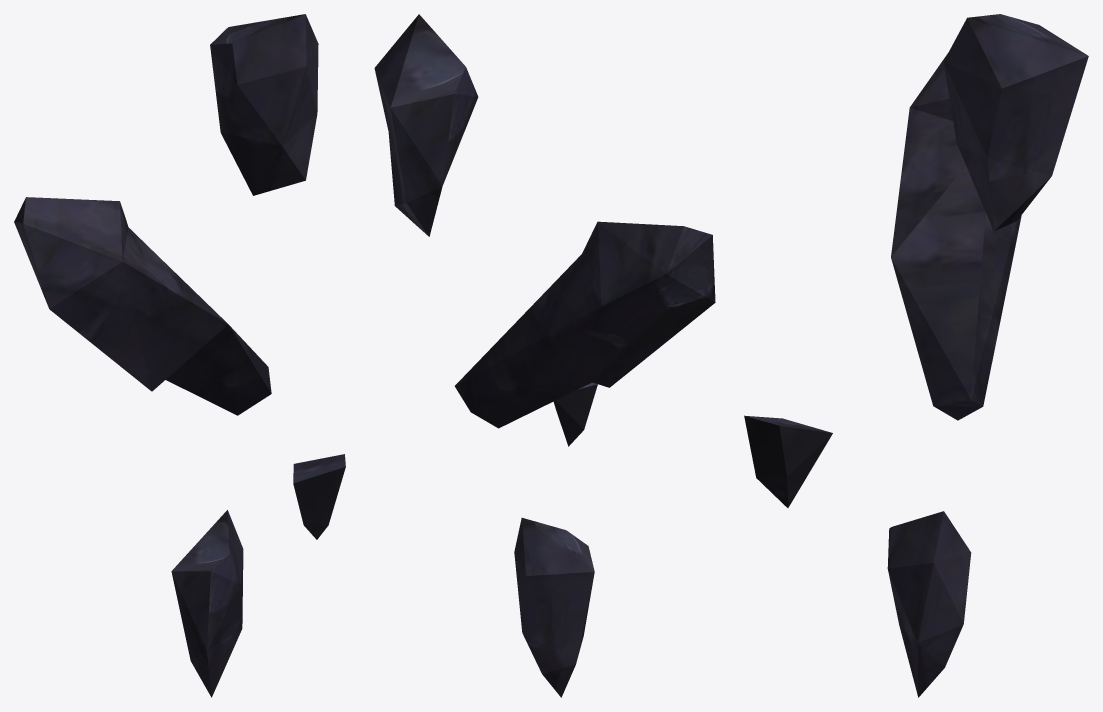
Rendered from GZ_Xsc_fushi_04_D.FBX.
The picture shows the model from 3 angles, left to right: view 1: azimuth 30°, elevation 25°; view 2: azimuth 150°, elevation 25°; view 3: azimuth 270°, elevation 25°; orthographic projection. The views are drawn at different scales.
Parts seen in each view (by area): view 1: GZ_Xsc_fushi_04_D; view 2: GZ_Xsc_fushi_04_D; view 3: GZ_Xsc_fushi_04_D.
Part boxes in pixels (bbox=[...]): GZ_Xsc_fushi_04_D: bbox=[14, 14, 345, 697]; GZ_Xsc_fushi_04_D: bbox=[374, 14, 715, 697]; GZ_Xsc_fushi_04_D: bbox=[744, 14, 1088, 697].
Size of the model in its own units: 14.56 by 28.82 by 12.08.
